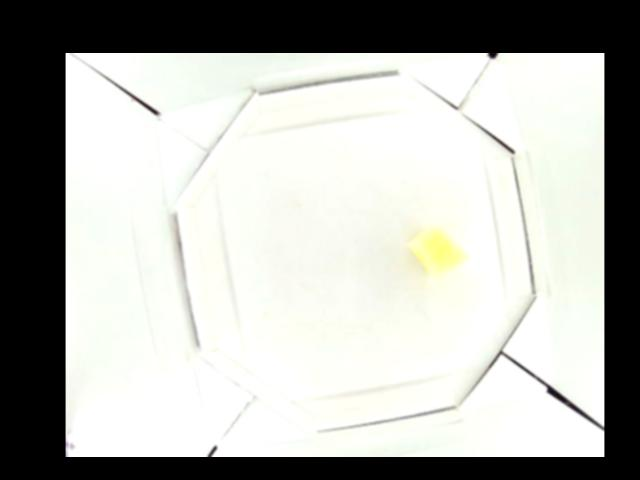Potato: (409, 223, 467, 276)
